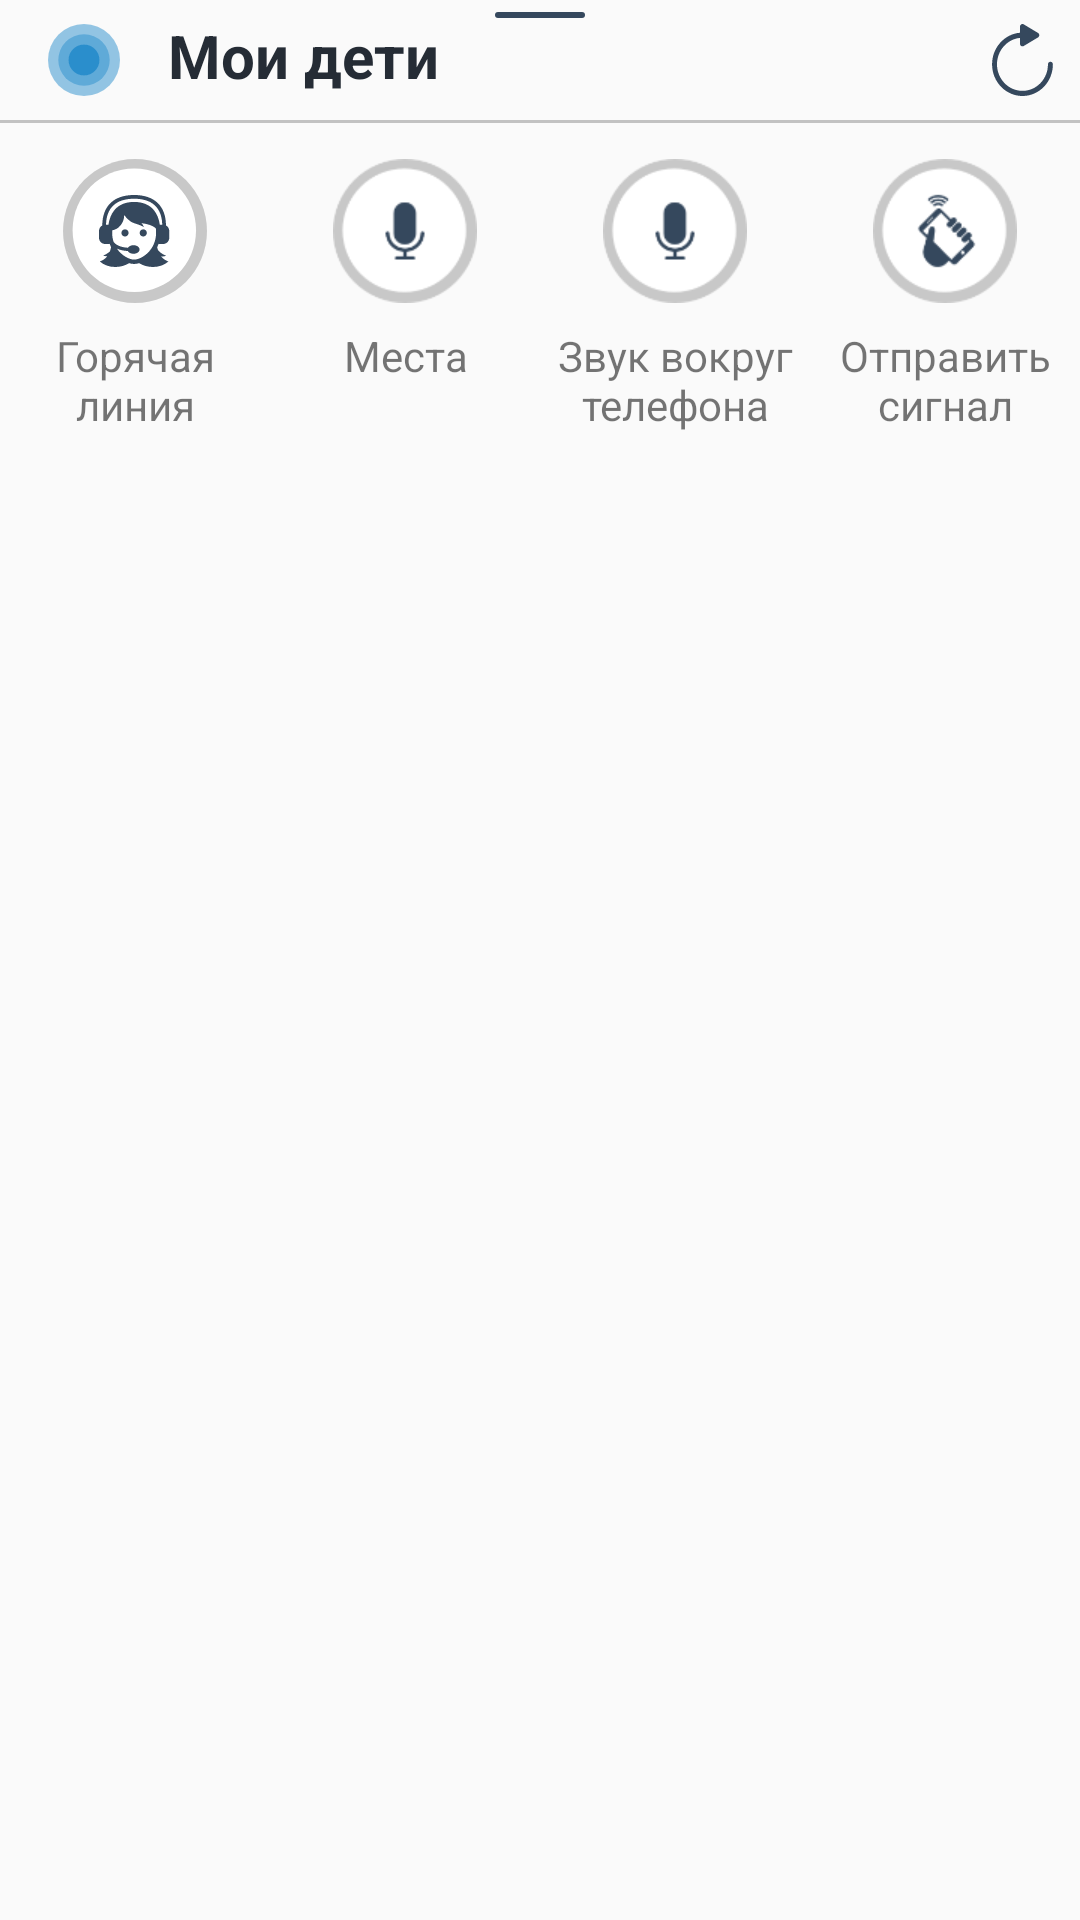

Icons on this 1080*1920 Android screen, each with the point to tap as (x=x, y=y):
callcenterround: (x=135, y=231)
microphoneround: (x=405, y=231), (x=675, y=231)
reload: (x=1022, y=60)
